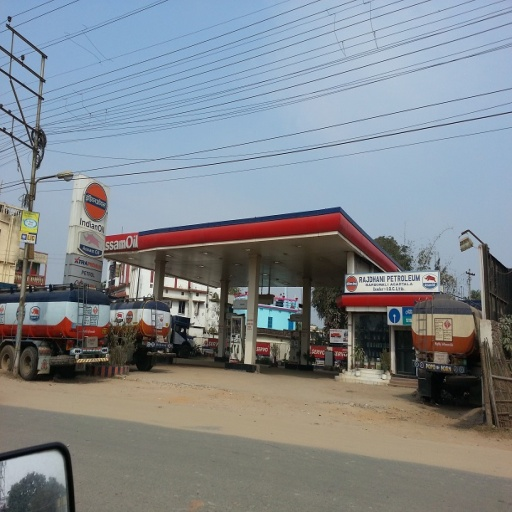roof: (99, 209, 413, 288)
